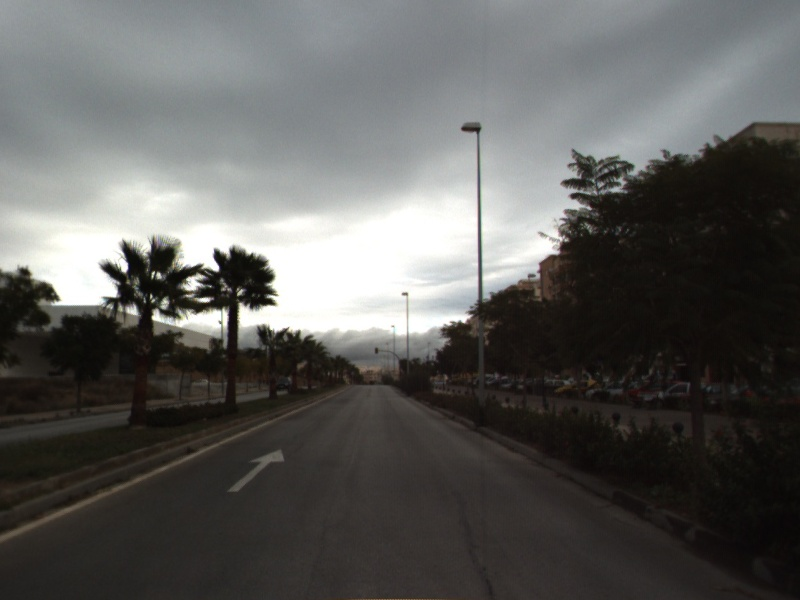STRAIGHT: (225, 447, 286, 494)
